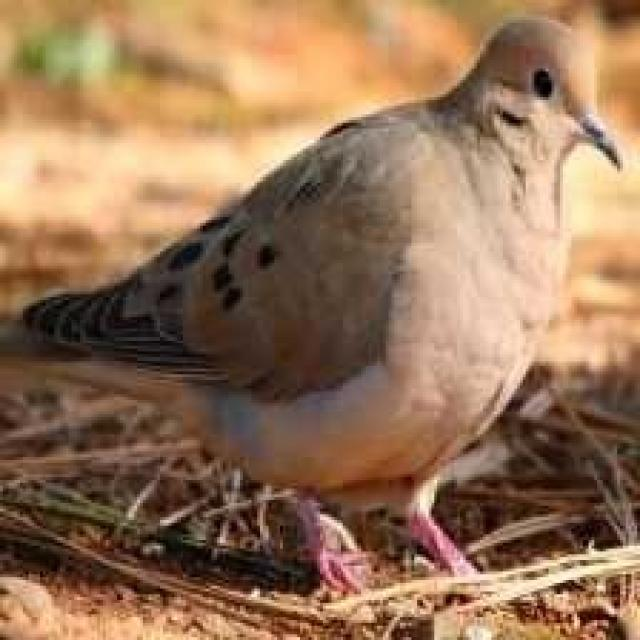bird: (10, 7, 627, 612)
